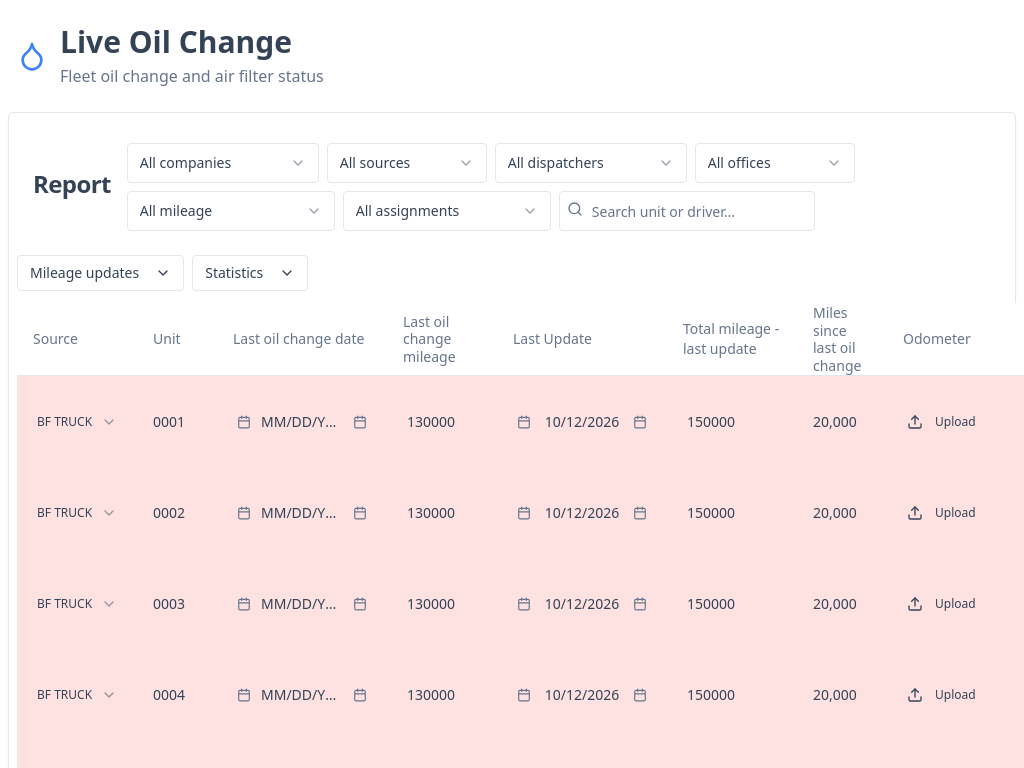
Test: keeps filter 0 working with readiness
The width and height of the screenshot is (1024, 768).
Press ArrowDown in the dropdown labelled "All companies", box [127,143,319,183]
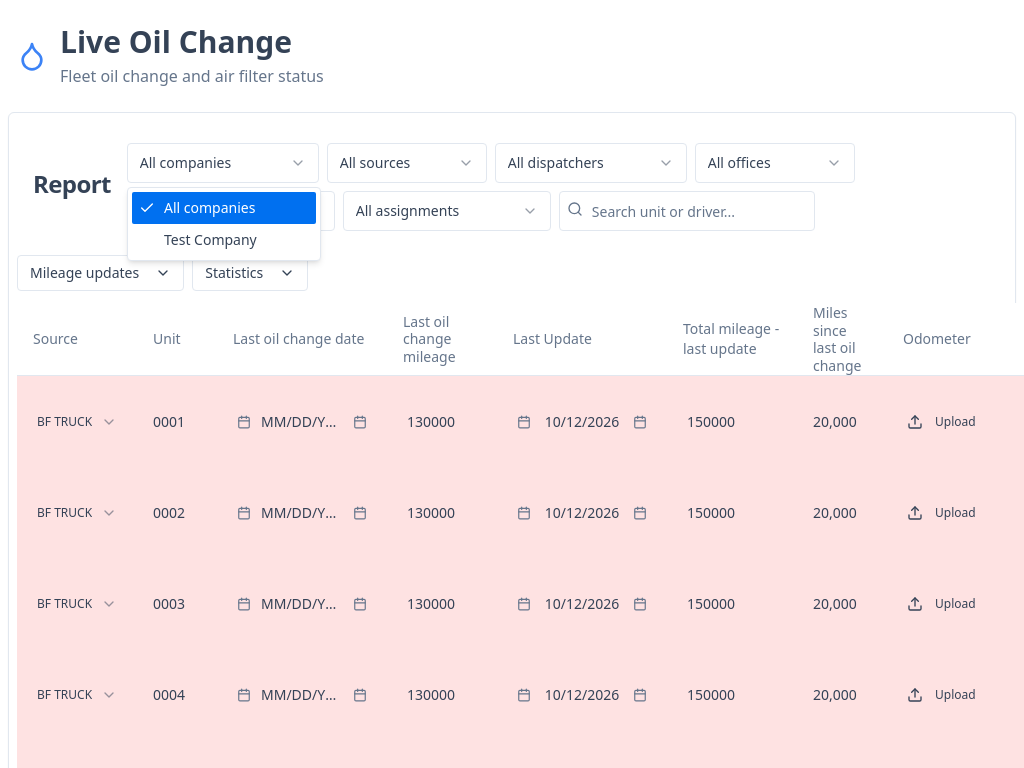
Click the option "Test Company" at (210, 240), box [164,230,257,249]
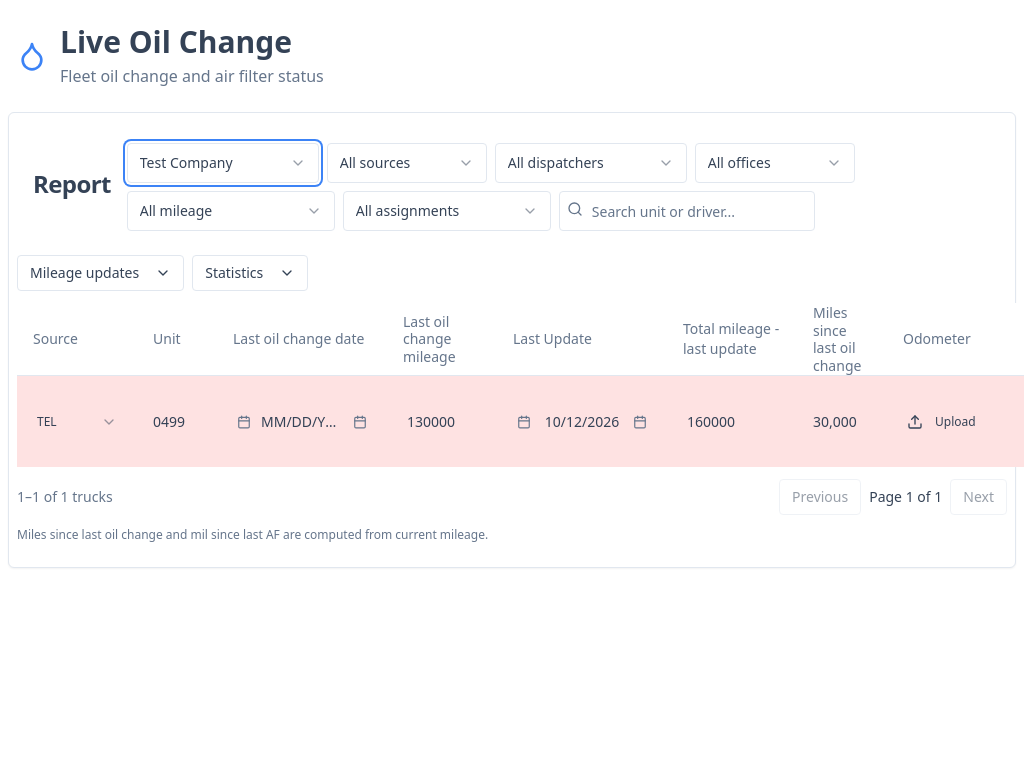
Check: the text "1–1 of 1 trucks" is shown, box [17,487,113,507]
Check: the link named "Open service log for truck 0499" is shown, box [153,412,185,430]
